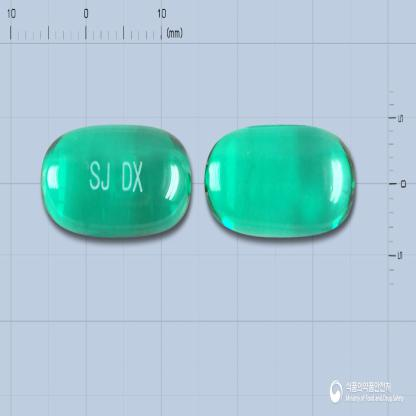pill: (203, 124, 357, 238), (40, 124, 193, 238)
